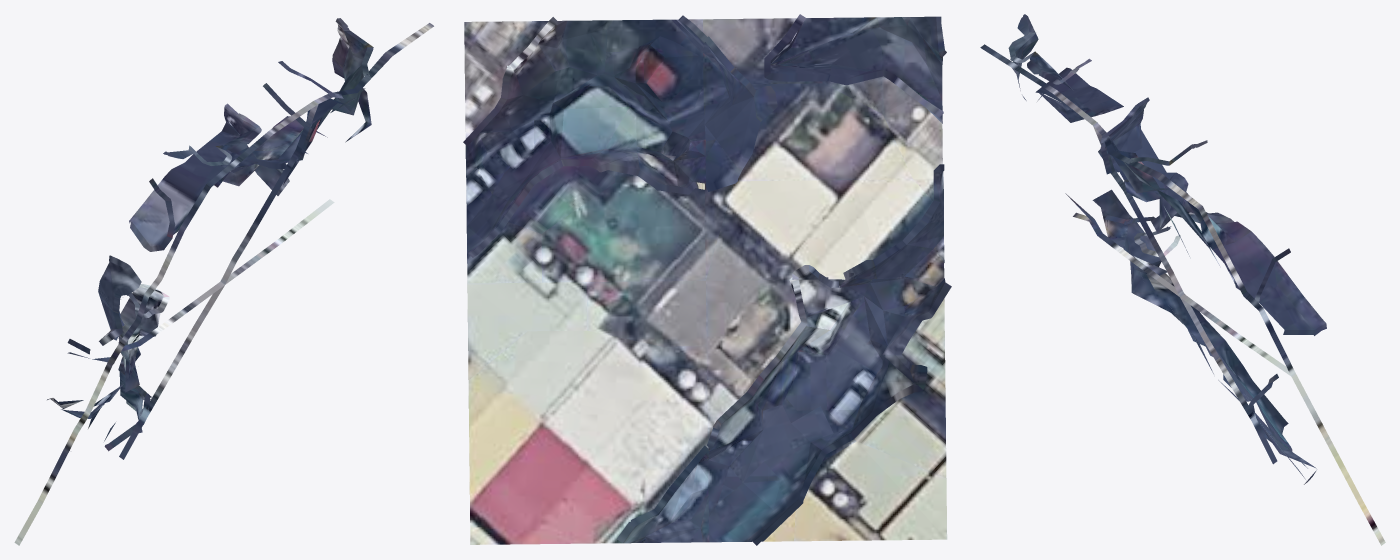
3 renders of one model, left to right at view 1: azimuth 30°, elevation 25°; view 2: azimuth 150°, elevation 25°; view 3: azimuth 270°, elevation 25°, orthographic. The views are drawn at different scales.
Bounding box in the file's own units: 38.94 × 36.53 × 32.52.
1 material, 1 textured.
